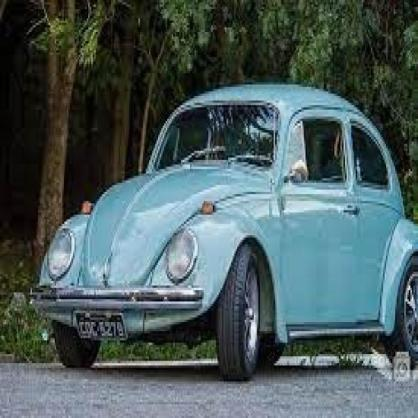car: (29, 82, 418, 386)
